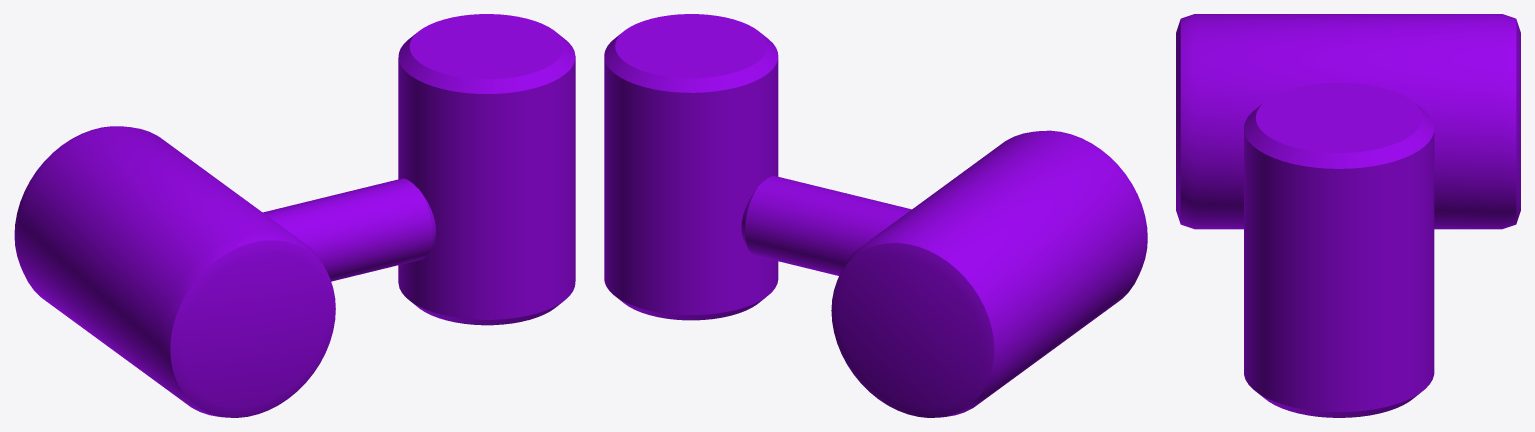
File: MiniBumper.fbx
The picture shows the model from 3 angles, left to right: view 1: azimuth 30°, elevation 25°; view 2: azimuth 150°, elevation 25°; view 3: azimuth 270°, elevation 25°; orthographic projection. The views are drawn at different scales.
Parts seen in each view (by area): view 1: Cylinder003, Cylinder002; view 2: Cylinder003, Cylinder002; view 3: Cylinder002, Cylinder003.
Boxes of the visible parts, x1,y1,x2,y2 form: Cylinder003: [14, 126, 435, 417]; Cylinder002: [398, 14, 575, 325]; Cylinder003: [741, 130, 1147, 417]; Cylinder002: [604, 14, 778, 320]; Cylinder002: [1244, 82, 1434, 417]; Cylinder003: [1176, 14, 1520, 229].
Size of the model in its own units: 984 by 491 by 580.
